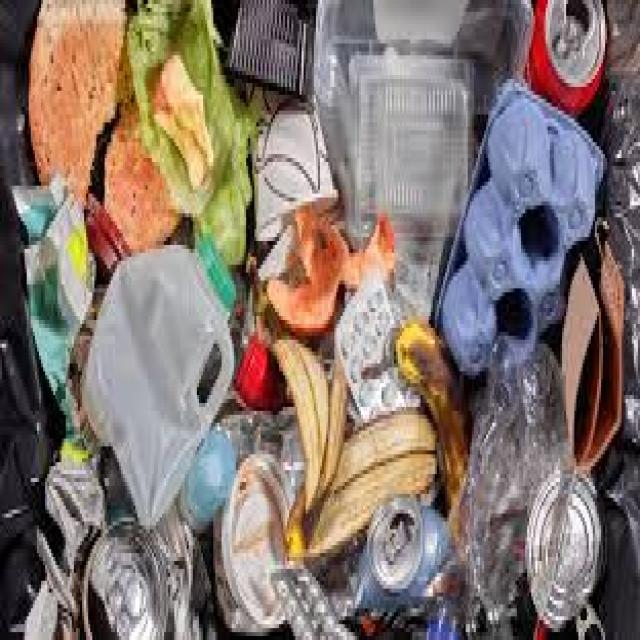Organik: (265, 327, 478, 616), (23, 8, 227, 245), (255, 187, 395, 369)
